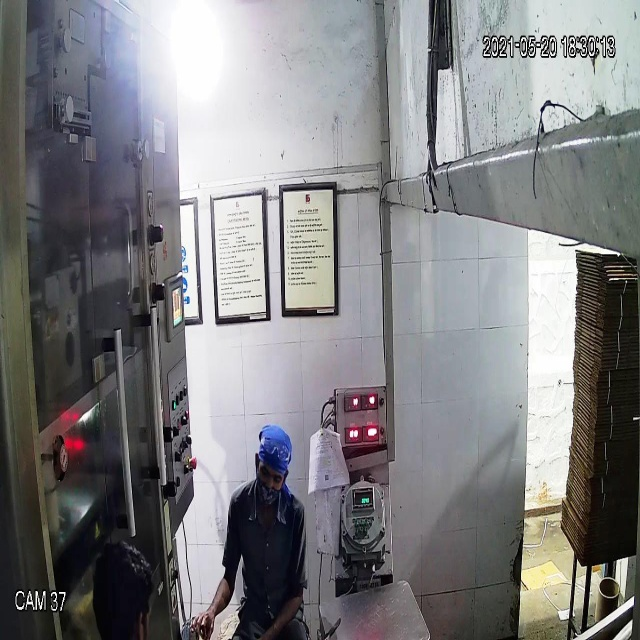Sin_gafas: (252, 456, 291, 494)
